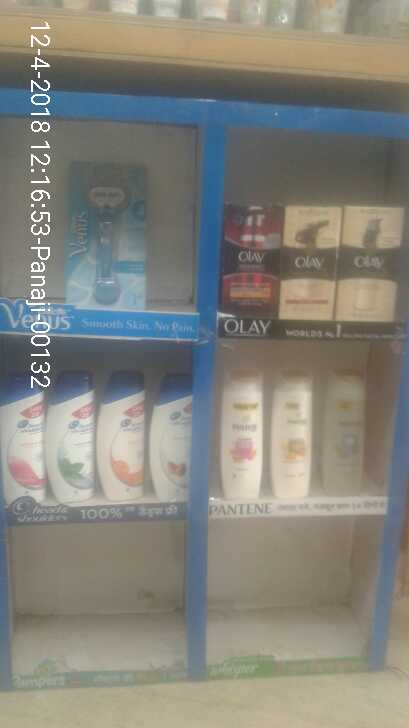venus: (66, 160, 145, 306)
